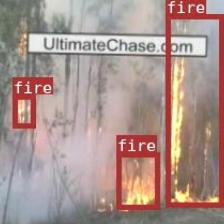fire: (165, 14, 223, 206), (116, 152, 158, 209), (13, 93, 34, 127)
